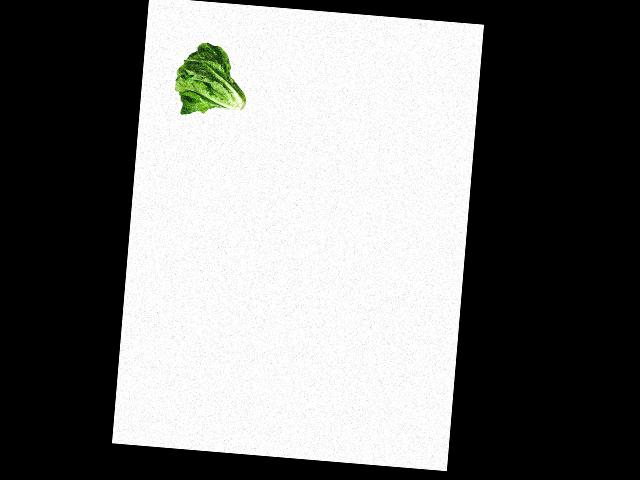lettuce: (172, 39, 254, 118)
